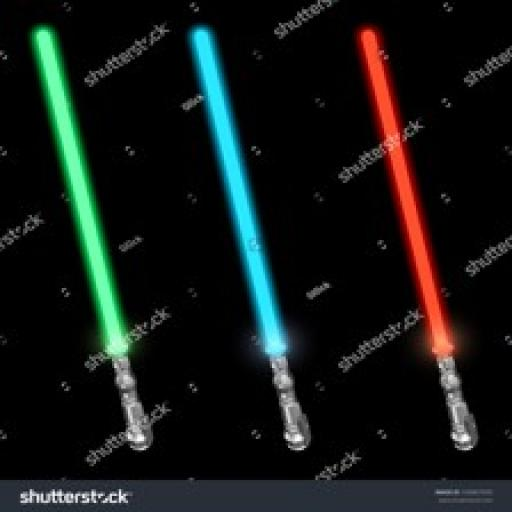lightsaber: (33, 26, 154, 454), (190, 26, 310, 451)
sith saber: (359, 28, 477, 450)
